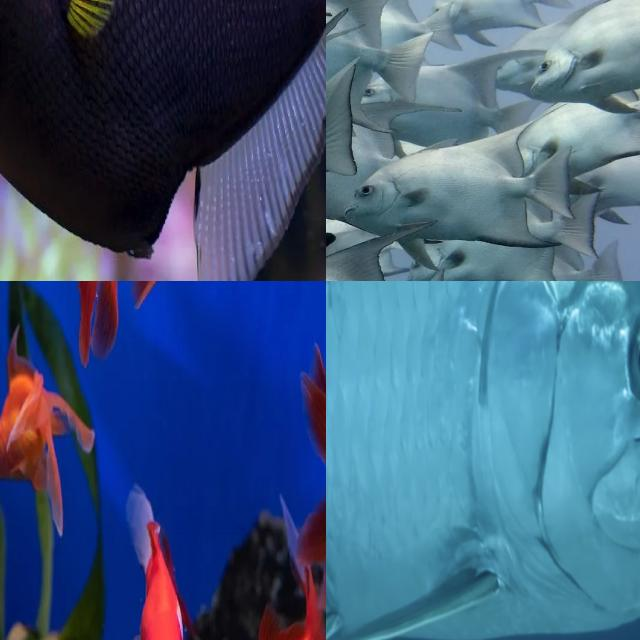fish: (0, 0, 326, 281), (0, 458, 299, 640), (327, 0, 561, 54)
